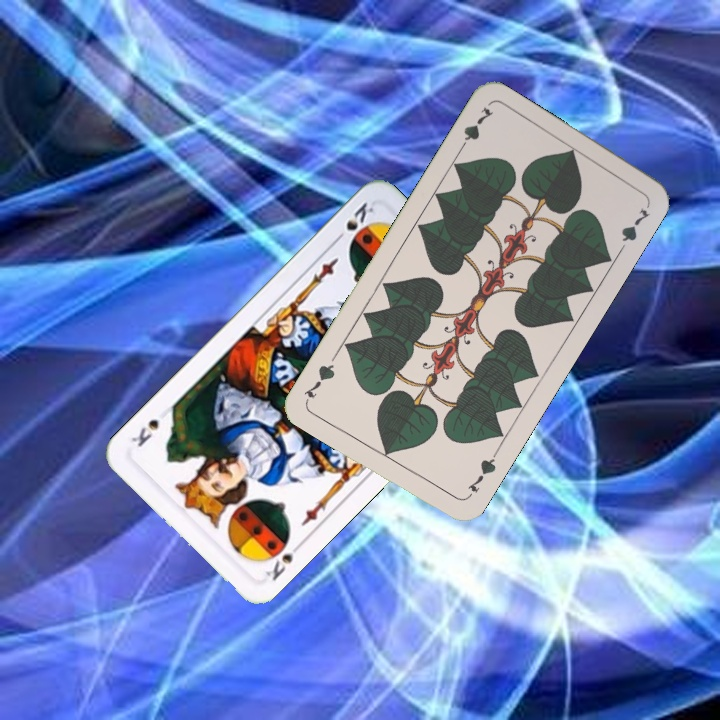G7: (454, 102, 496, 156), (462, 448, 500, 501)
SK: (330, 198, 377, 245), (261, 537, 306, 584)
